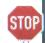Stop sign: (0, 0, 44, 42)
